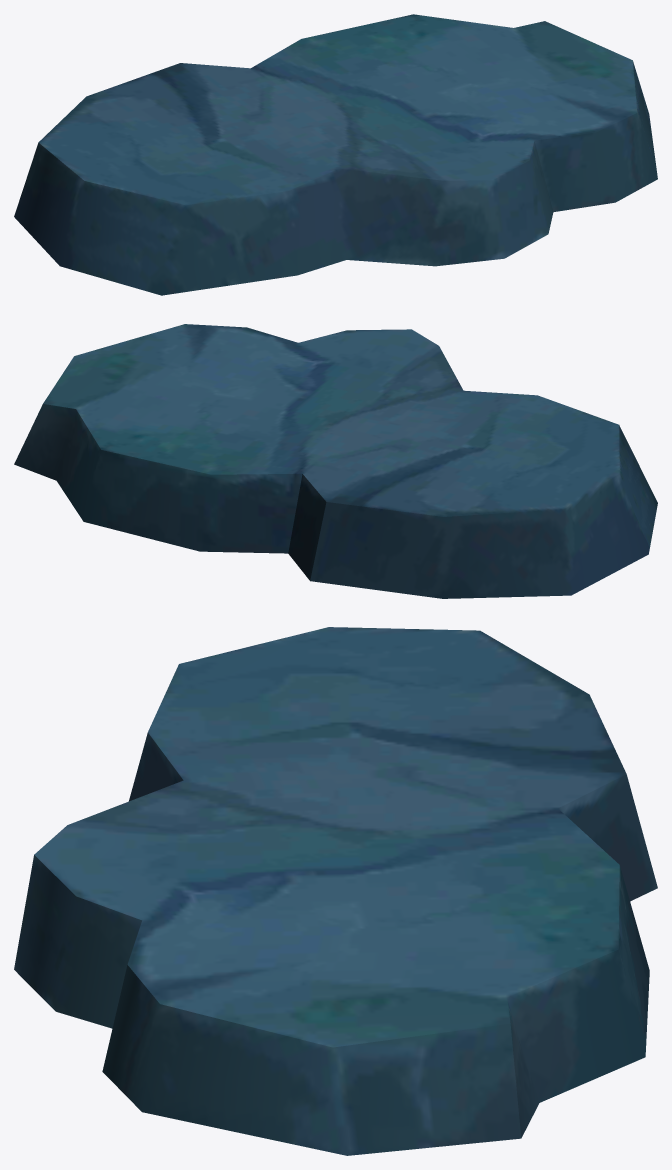
File: map_113_shitou_6.fbx
The picture shows the model from 3 angles, top to bottom: view 1: azimuth 30°, elevation 25°; view 2: azimuth 150°, elevation 25°; view 3: azimuth 270°, elevation 25°; orthographic projection. The views are drawn at different scales.
Parts seen in each view (by area): view 1: map_113_shitou_6; view 2: map_113_shitou_6; view 3: map_113_shitou_6.
Boxes of the visible parts, x1,y1,x2,y2 form: map_113_shitou_6: (14, 14, 657, 295); map_113_shitou_6: (14, 324, 657, 598); map_113_shitou_6: (14, 627, 657, 1155).
Bounding box in the file's own units: 2.31 × 0.2845 × 1.45.
